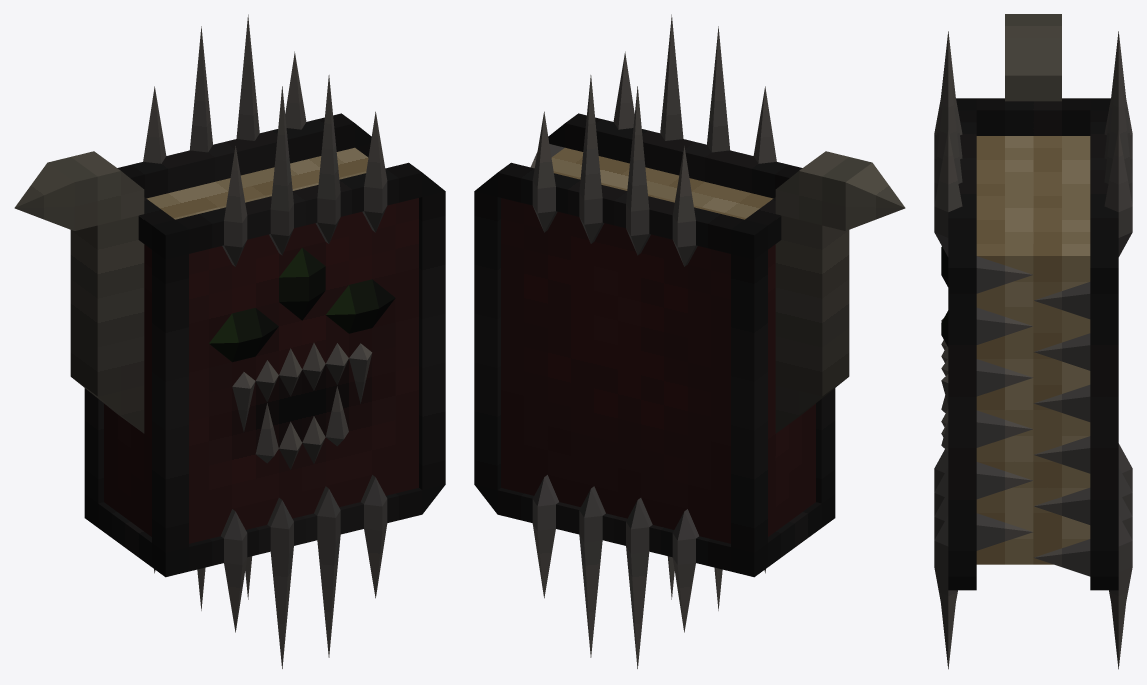
The model's file is grimoire_demon_closed.obj.
The picture shows the model from 3 angles, left to right: view 1: azimuth 30°, elevation 25°; view 2: azimuth 150°, elevation 25°; view 3: azimuth 270°, elevation 25°; orthographic projection. The views are drawn at different scales.
Parts seen in each view (by area): view 1: COVER_FRONT_VAR1_CLOSED.001_Cube.055, COVERDECO_FRONT_FACE_Cube.065, SPINEDECO_VAR5_CLOSED_Cube.070, SPINE_VAR5_CLOSED_Cube.056, COVER_BACK_VAR5_CLOSED_Cube.054, COVERDECO_BACK_VAR5_CLOSED_Cube.074, PAGES_VAR5_BACK_CLOSED_Cube.071; view 2: COVER_BACK_VAR5_CLOSED_Cube.054, SPINEDECO_VAR5_CLOSED_Cube.070, COVERDECO_BACK_VAR5_CLOSED_Cube.074, COVER_FRONT_VAR1_CLOSED.001_Cube.055, SPINE_VAR5_CLOSED_Cube.056, COVERDECO_FRONT_FACE_Cube.065, PAGES_VAR5_FRONT_CLOSED_Cube.072; view 3: PAGES_VAR5_BACK_CLOSED_Cube.071, PAGES_VAR5_FRONT_CLOSED_Cube.072, COVERDECO_FRONT_FACE_Cube.065, COVERDECO_BACK_VAR5_CLOSED_Cube.074, COVER_BACK_VAR5_CLOSED_Cube.054, COVER_FRONT_VAR1_CLOSED.001_Cube.055, SPINEDECO_VAR5_CLOSED_Cube.070, SPINE_VAR5_CLOSED_Cube.056.
Boxes of the visible parts, x1,y1,x2,y2 form: COVER_FRONT_VAR1_CLOSED.001_Cube.055: [152, 162, 445, 577]; COVERDECO_FRONT_FACE_Cube.065: [209, 75, 395, 668]; SPINEDECO_VAR5_CLOSED_Cube.070: [14, 151, 144, 433]; SPINE_VAR5_CLOSED_Cube.056: [98, 197, 188, 566]; COVER_BACK_VAR5_CLOSED_Cube.054: [84, 113, 371, 527]; COVERDECO_BACK_VAR5_CLOSED_Cube.074: [143, 14, 306, 610]; PAGES_VAR5_BACK_CLOSED_Cube.071: [146, 147, 368, 218]; COVER_BACK_VAR5_CLOSED_Cube.054: [474, 162, 767, 577]; SPINEDECO_VAR5_CLOSED_Cube.070: [775, 151, 905, 433]; COVERDECO_BACK_VAR5_CLOSED_Cube.074: [532, 75, 698, 668]; COVER_FRONT_VAR1_CLOSED.001_Cube.055: [548, 113, 835, 527]; SPINE_VAR5_CLOSED_Cube.056: [745, 197, 834, 566]; COVERDECO_FRONT_FACE_Cube.065: [530, 14, 776, 610]; PAGES_VAR5_FRONT_CLOSED_Cube.072: [551, 147, 773, 218]; PAGES_VAR5_BACK_CLOSED_Cube.071: [1033, 136, 1090, 564]; PAGES_VAR5_FRONT_CLOSED_Cube.072: [976, 136, 1033, 564]; COVERDECO_FRONT_FACE_Cube.065: [934, 31, 1032, 669]; COVERDECO_BACK_VAR5_CLOSED_Cube.074: [1034, 31, 1132, 669]; COVER_BACK_VAR5_CLOSED_Cube.054: [1090, 98, 1118, 590]; COVER_FRONT_VAR1_CLOSED.001_Cube.055: [948, 98, 976, 590]; SPINEDECO_VAR5_CLOSED_Cube.070: [1005, 14, 1061, 101]; SPINE_VAR5_CLOSED_Cube.056: [976, 98, 1090, 135].
Bounding box in the file's own units: 1.05 × 1.5 × 0.4375.
